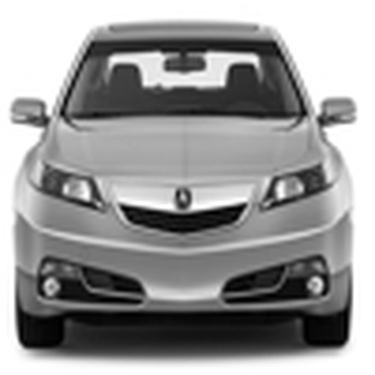car: (2, 13, 364, 351)
